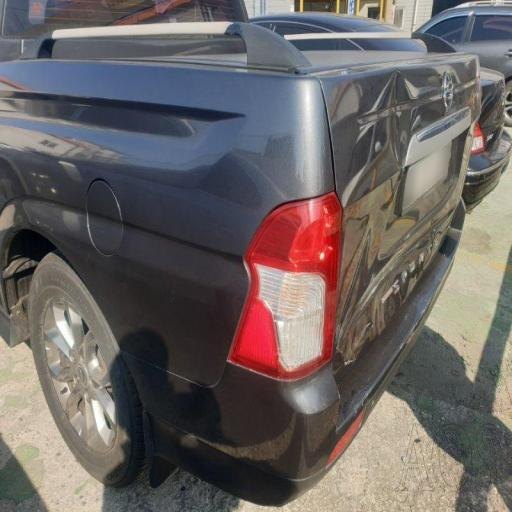dent: (278, 50, 492, 334)
scratch: (26, 150, 72, 241)
